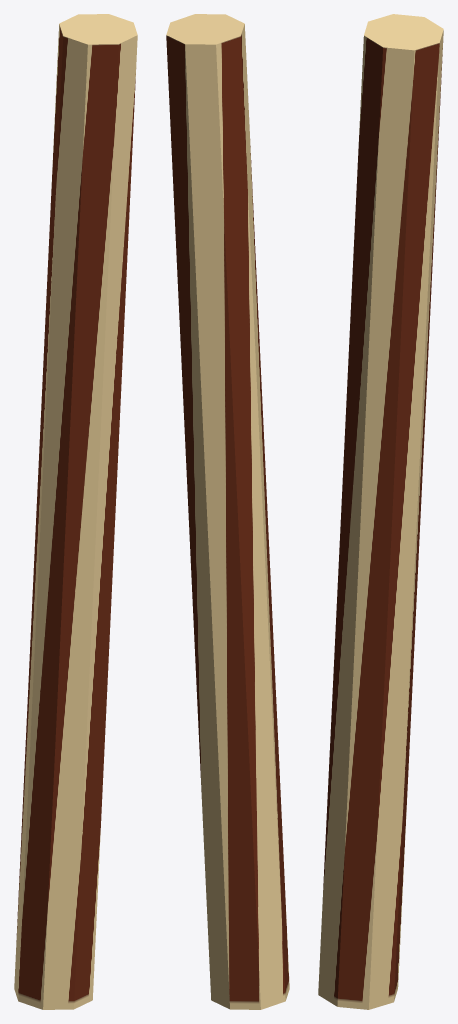
File: canudo.fbx
The picture shows the model from 3 angles, left to right: view 1: azimuth 30°, elevation 25°; view 2: azimuth 150°, elevation 25°; view 3: azimuth 330°, elevation 25°; orthographic projection.
Visible parts, largest first — view 1: Cylinder_013; view 2: Cylinder_013; view 3: Cylinder_013.
Part boxes in pixels (x1=…): Cylinder_013: x1=14, y1=14, x2=137, y2=1009; Cylinder_013: x1=166, y1=14, x2=289, y2=1009; Cylinder_013: x1=318, y1=14, x2=443, y2=1009.
Size of the model in its own units: 0.1902 by 1.51 by 0.1162.
